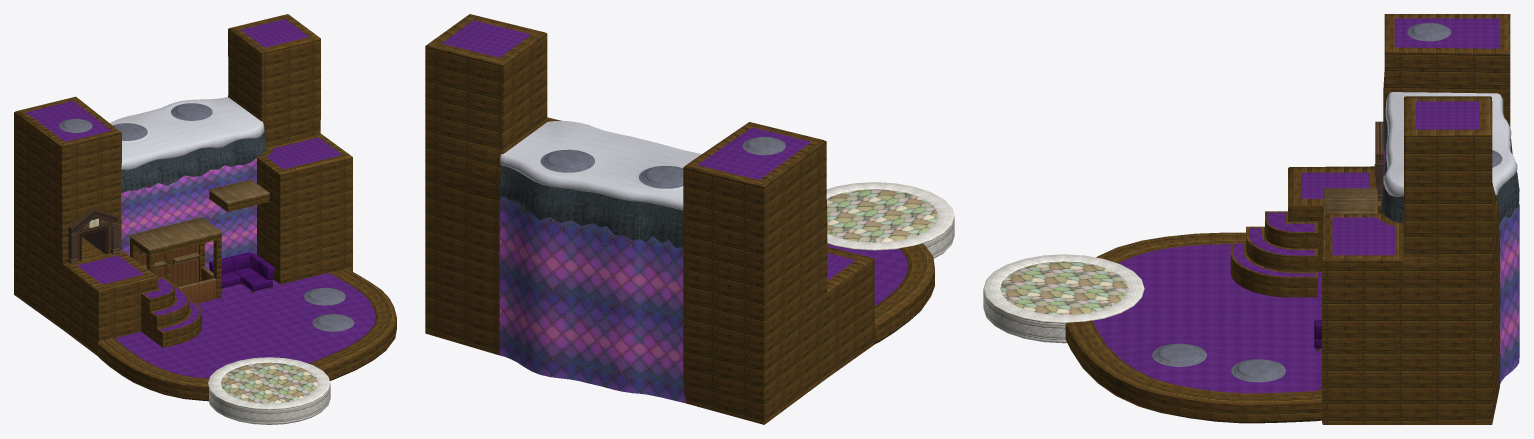
The model's file is HubworldModelFinal.fbx.
3 views of the same model, side by side, from view 1: azimuth 30°, elevation 25°; view 2: azimuth 150°, elevation 25°; view 3: azimuth 270°, elevation 25° (orthographic). The views are drawn at different scales.
Parts seen in each view (by area): view 1: HubworldPlanet; view 2: HubworldPlanet; view 3: HubworldPlanet.
Boxes of the visible parts, bbox=[...] form: HubworldPlanet: bbox=[14, 14, 396, 424]; HubworldPlanet: bbox=[425, 14, 954, 424]; HubworldPlanet: bbox=[983, 14, 1519, 424].
Size of the model in its own units: 389628 by 306129 by 509500.
